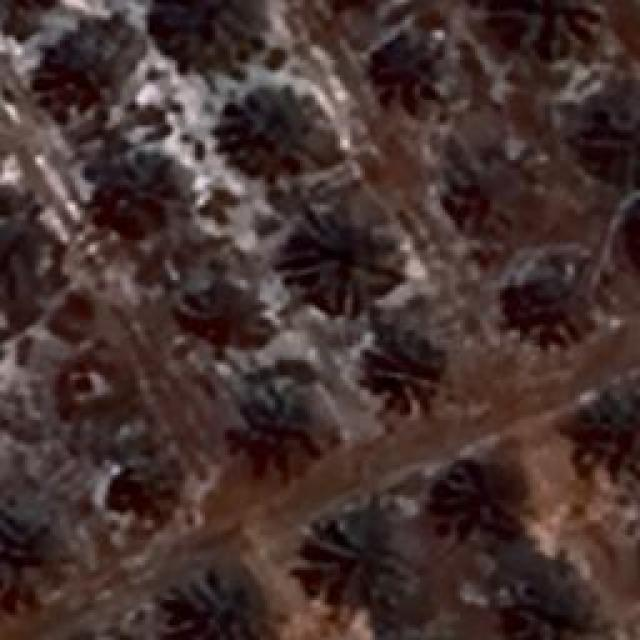PalmTree: (280, 212, 398, 306), (302, 518, 408, 608), (225, 98, 335, 176), (152, 0, 266, 65), (510, 572, 612, 640), (228, 382, 320, 456), (32, 40, 132, 108), (98, 157, 180, 235), (0, 490, 60, 595), (512, 269, 590, 349), (496, 0, 596, 58), (172, 575, 260, 640), (575, 394, 640, 474), (448, 462, 522, 532), (187, 282, 265, 346), (369, 329, 439, 399), (442, 165, 518, 225), (587, 92, 640, 175), (381, 42, 449, 102), (112, 456, 172, 522)
